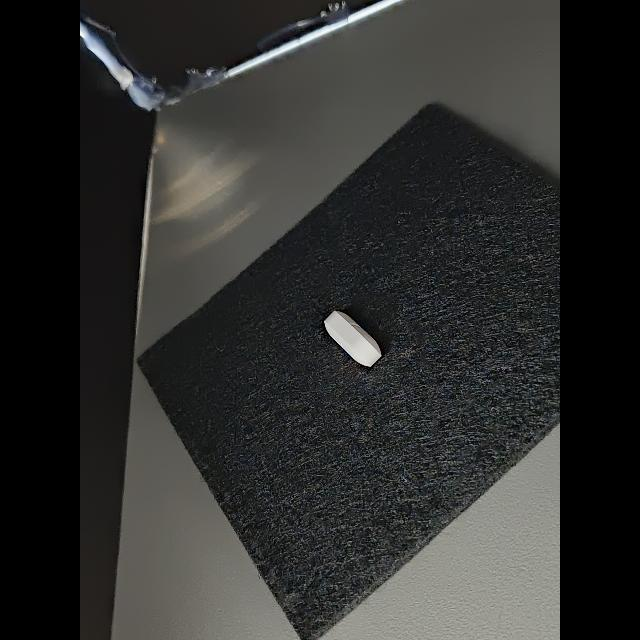Intact Pill: (324, 310, 382, 367)
